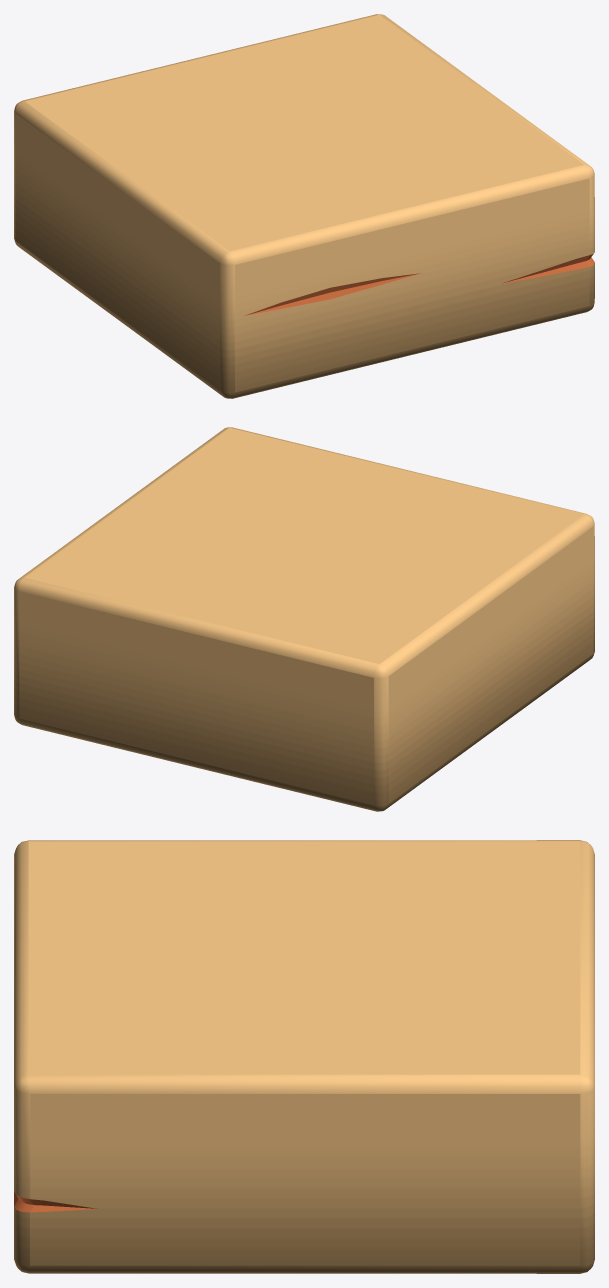
The model's file is Wood_Platform.fbx.
3 renders of one model, top to bottom at view 1: azimuth 30°, elevation 25°; view 2: azimuth 150°, elevation 25°; view 3: azimuth 270°, elevation 25°, orthographic. The views are drawn at different scales.
Visible parts, largest first — view 1: WoodPlatform; view 2: WoodPlatform; view 3: WoodPlatform.
Boxes of the visible parts, x1=… form: WoodPlatform: x1=14, y1=14, x2=594, y2=398; WoodPlatform: x1=14, y1=427, x2=594, y2=811; WoodPlatform: x1=14, y1=840, x2=594, y2=1273.
Size of the model in its own units: 1.26 by 0.4729 by 1.26.
